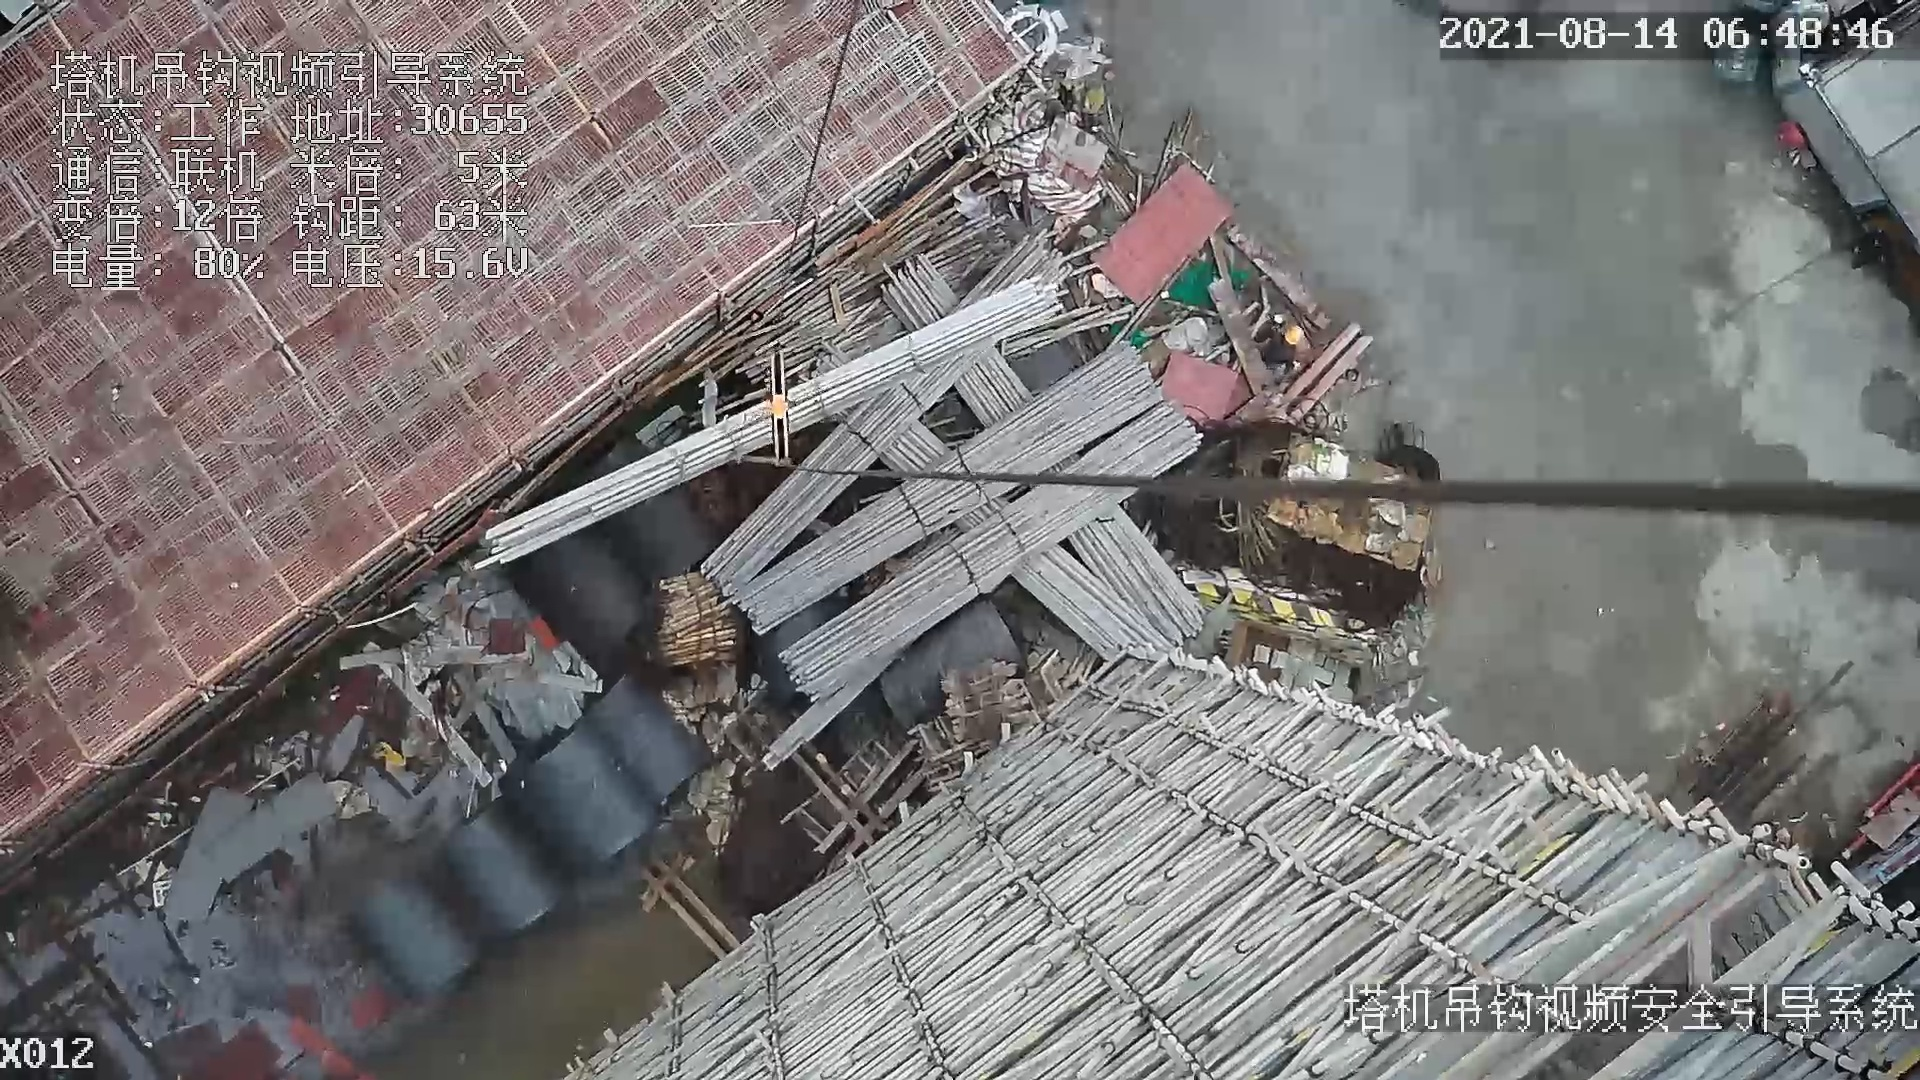helmet: (1284, 324, 1304, 349)
hook: (759, 353, 799, 469)
person: (1254, 310, 1309, 380)
